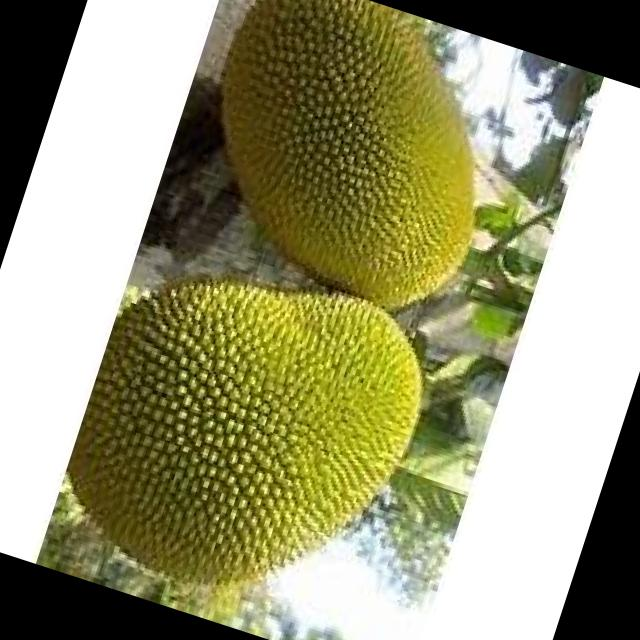Fruit: (36, 210, 469, 640), (146, 0, 545, 340)
